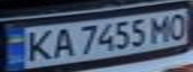4: (97, 20, 118, 53)
5: (127, 17, 151, 47), (112, 19, 133, 51)
7: (75, 22, 100, 55)
A: (48, 25, 78, 60)
K: (21, 27, 57, 63)
M: (148, 14, 175, 44)
O: (163, 11, 193, 40)
